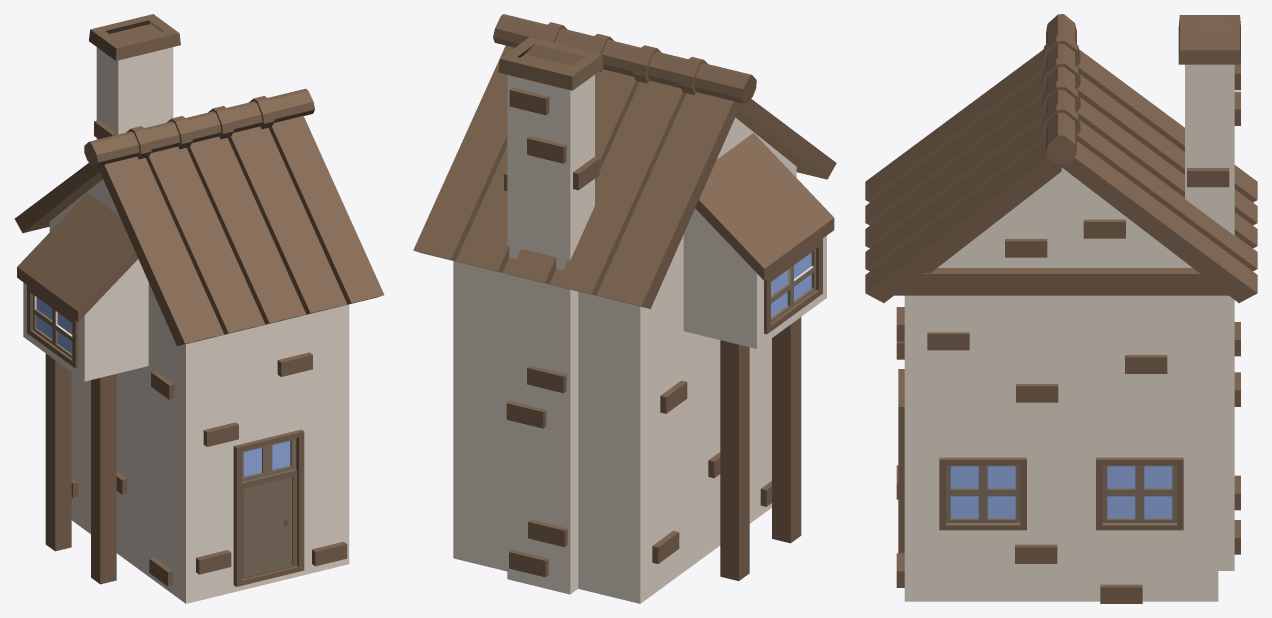
File: house_1.fbx
3 renders of one model, left to right at view 1: azimuth 30°, elevation 25°; view 2: azimuth 150°, elevation 25°; view 3: azimuth 270°, elevation 25°, orthographic. The views are drawn at different scales.
Parts seen in each view (by area): view 1: houseD; view 2: houseD; view 3: houseD.
Part boxes in pixels (<box>): houseD: <box>14,14,384,603</box>; houseD: <box>413,14,836,603</box>; houseD: <box>865,14,1257,603</box>.
Size of the model in its own units: 321 by 533 by 362.
